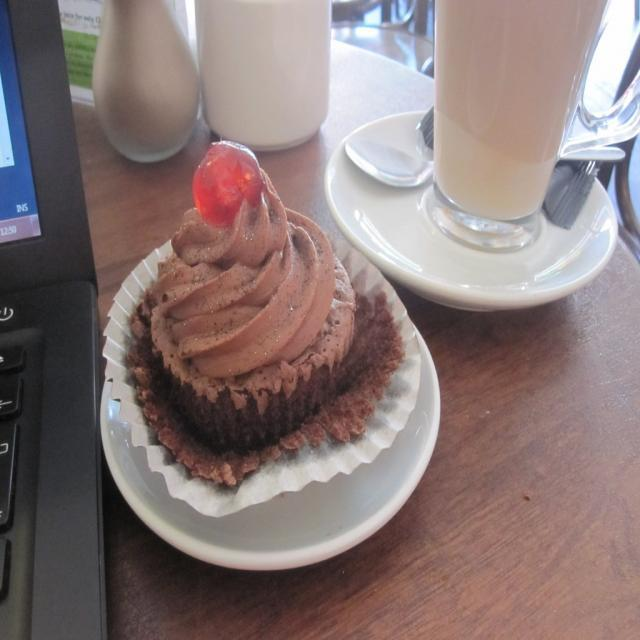Muffin: (117, 166, 412, 526)
